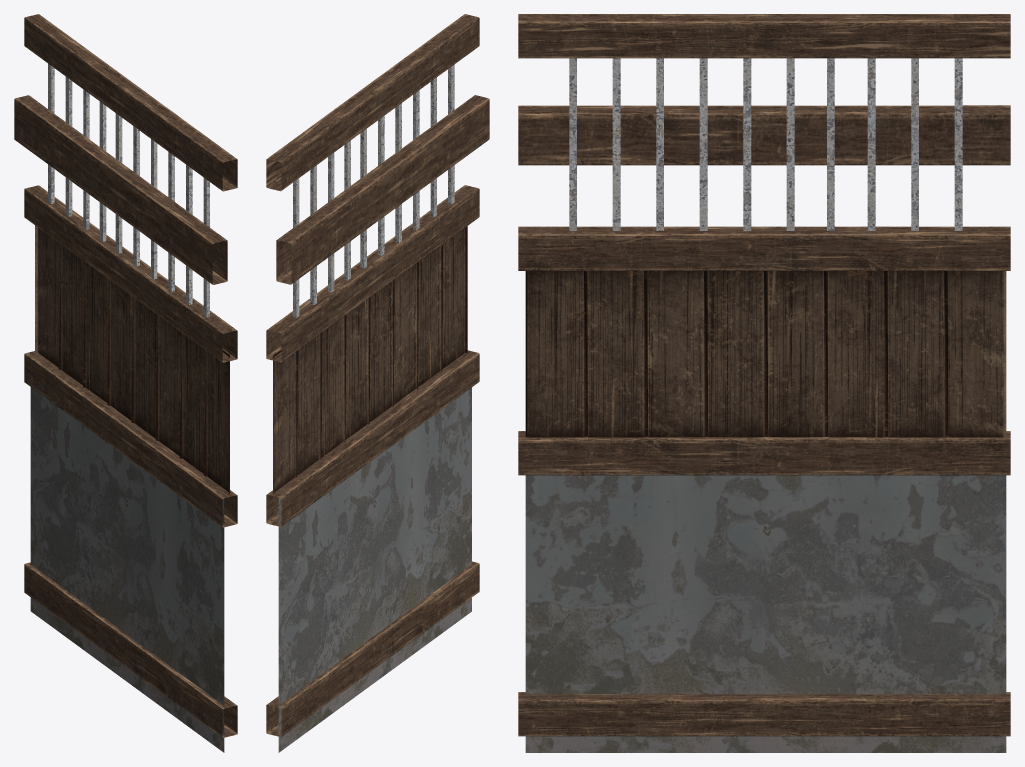
Rendered from SM_Pannel_Wall.fbx.
3 views of the same model, side by side, from view 1: azimuth 30°, elevation 25°; view 2: azimuth 150°, elevation 25°; view 3: azimuth 270°, elevation 25° (orthographic). The views are drawn at different scales.
Visible parts, largest first — view 1: SM_Pannel_Wall_LOD0; view 2: SM_Pannel_Wall_LOD0; view 3: SM_Pannel_Wall_LOD0.
Boxes of the visible parts, x1=… form: SM_Pannel_Wall_LOD0: x1=14, y1=14, x2=237, y2=752; SM_Pannel_Wall_LOD0: x1=266, y1=14, x2=489, y2=752; SM_Pannel_Wall_LOD0: x1=518, y1=14, x2=1010, y2=752.
Bounding box in the file's own units: 40.19 × 546 × 901.
